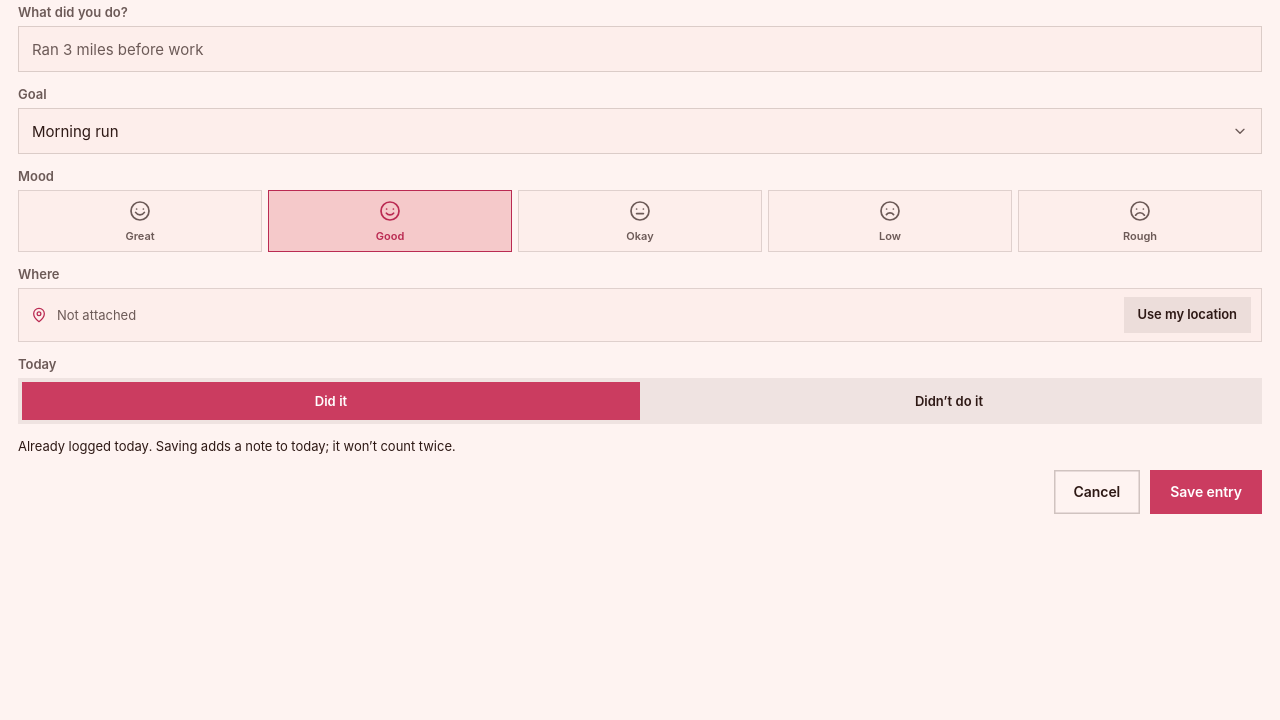
LogEntryForm › drops the repeat note once Didn’t do it is picked
Expected: the text "Already logged today" is shown, [18, 438, 456, 454]
Click the button "Didn’t do it" at x=949, y=401, box [640, 382, 1258, 420]
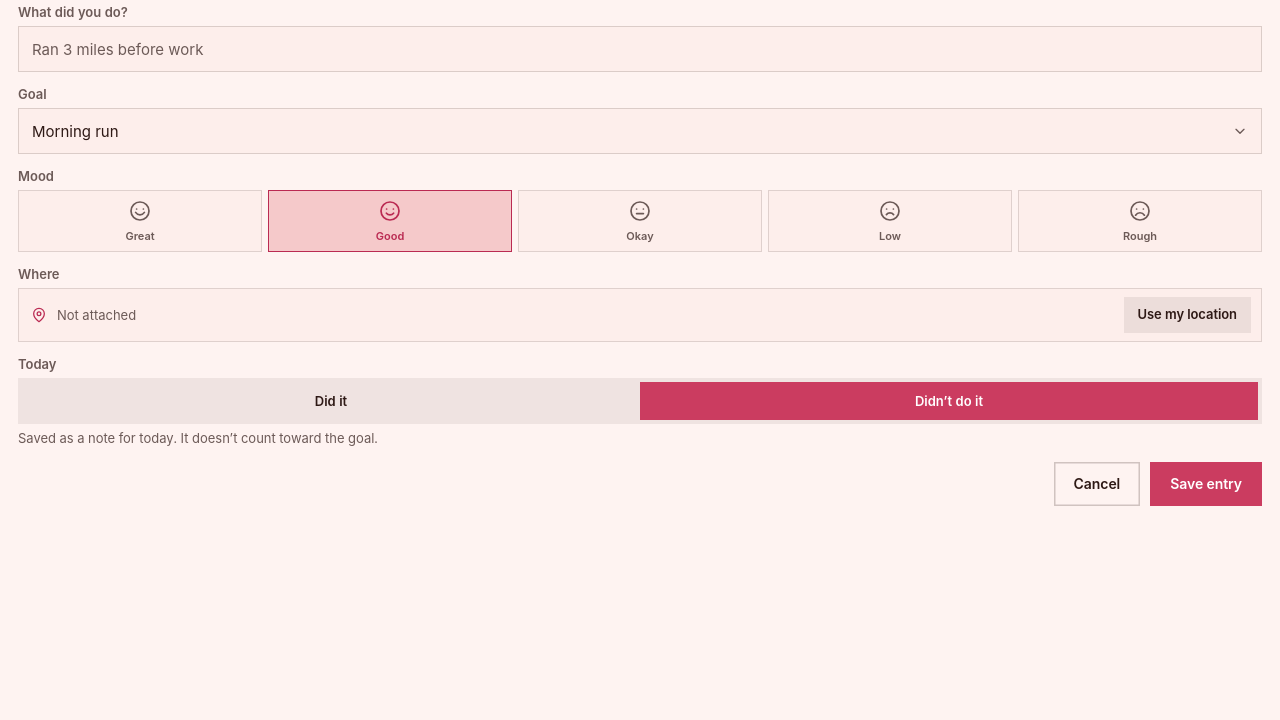
Result: the text "Already logged today" is gone
